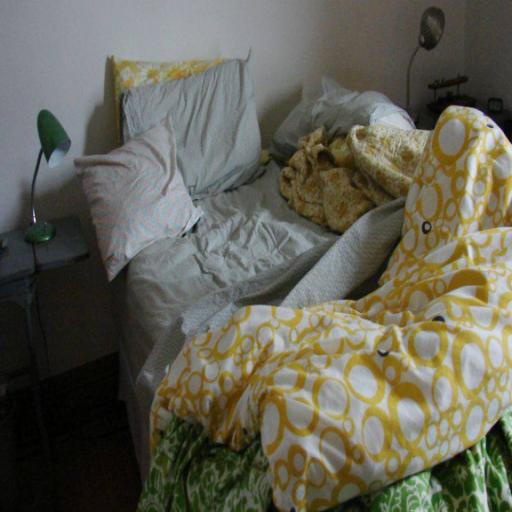person: (106, 68, 511, 510)
